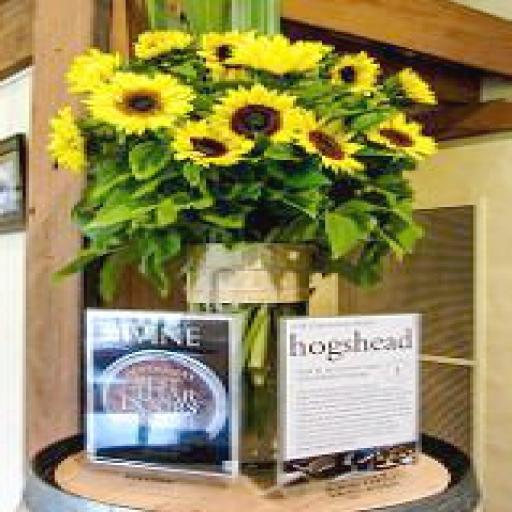sunflower: (87, 70, 190, 128), (216, 88, 296, 145), (168, 118, 238, 166), (303, 122, 364, 172), (42, 106, 90, 168), (367, 113, 438, 154), (328, 53, 377, 92), (132, 28, 190, 53), (393, 70, 441, 100)
